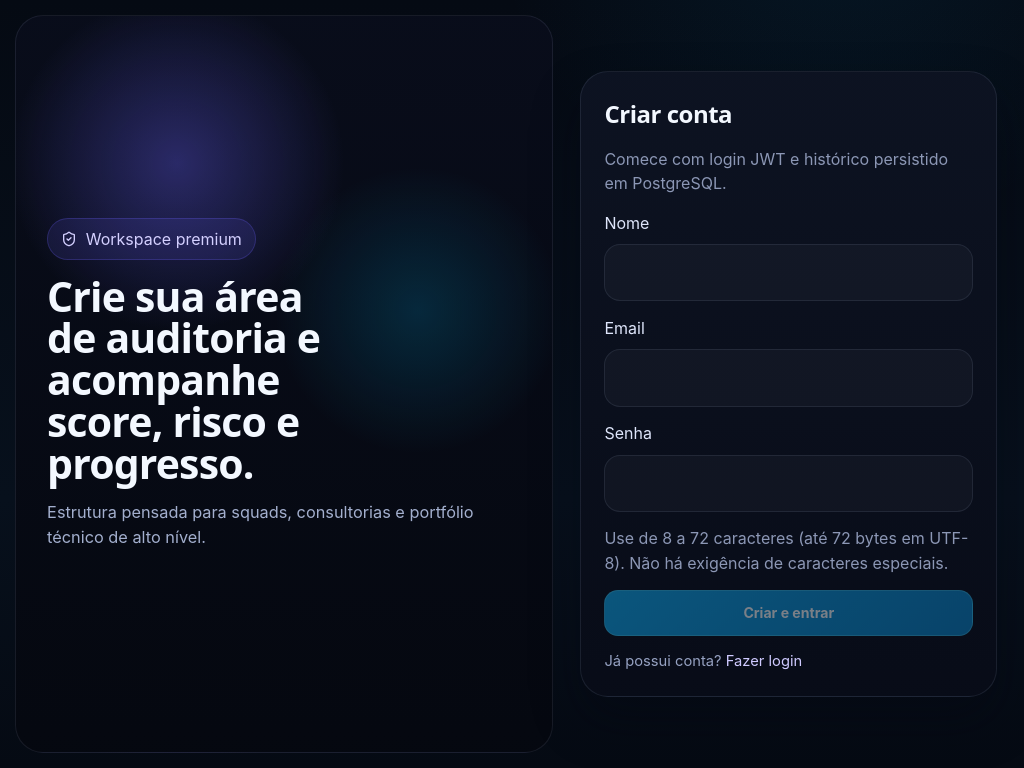
mostra feedback imediato e bloqueia cadastro inválido
Step 1. Type "usuario@dominio" into the field labelled "Email" → (789, 378), box [604,349,973,407]
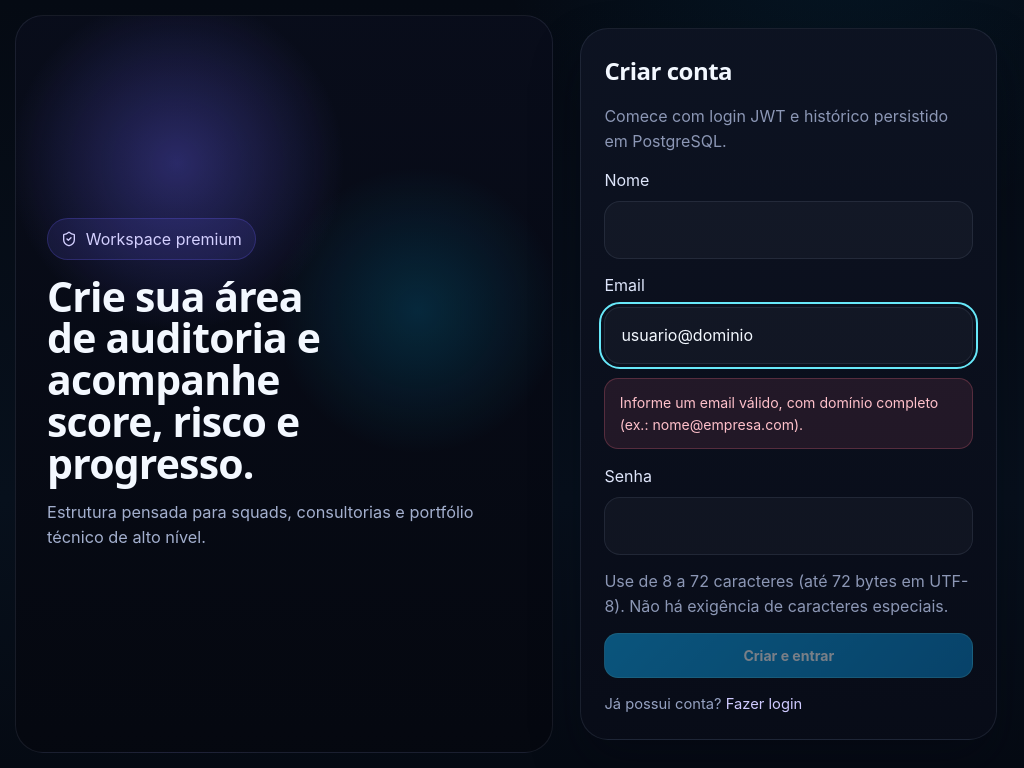
Check: the button "Criar e entrar" is disabled, box [604,633,973,678]
Check: the message shows "domínio completo", box [620,394,938,433]
